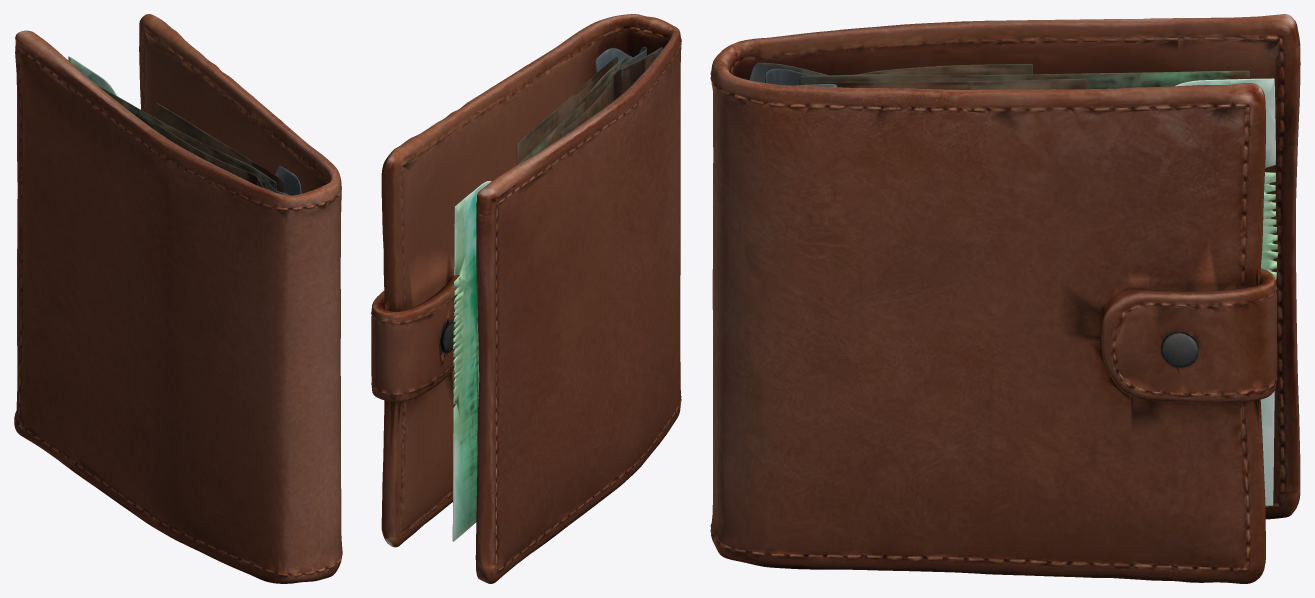
The model's file is wallet.opt.glb.
3 views of the same model, side by side, from view 1: azimuth 30°, elevation 25°; view 2: azimuth 150°, elevation 25°; view 3: azimuth 270°, elevation 25° (orthographic). The views are drawn at different scales.
Visible parts, largest first — view 1: tripo_node_f87a6860-8bef-410b-b4f1-e9043e523bd5; view 2: tripo_node_f87a6860-8bef-410b-b4f1-e9043e523bd5; view 3: tripo_node_f87a6860-8bef-410b-b4f1-e9043e523bd5.
Boxes of the visible parts, <box> form: tripo_node_f87a6860-8bef-410b-b4f1-e9043e523bd5: <box>14,14,342,583</box>; tripo_node_f87a6860-8bef-410b-b4f1-e9043e523bd5: <box>371,14,681,583</box>; tripo_node_f87a6860-8bef-410b-b4f1-e9043e523bd5: <box>710,14,1300,583</box>.
Bounding box in the file's own units: 0.3648 × 0.9178 × 0.9797.
1 material, 1 textured.
